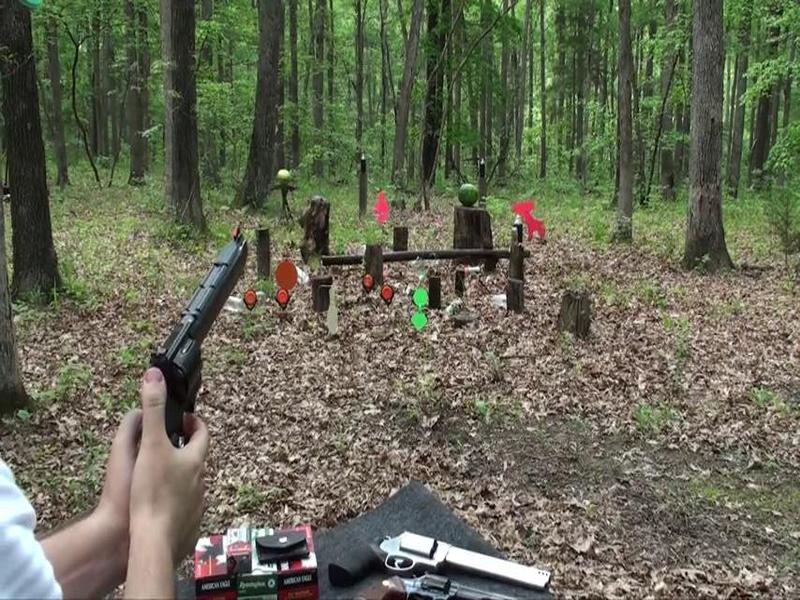Revolver: (140, 213, 259, 468)
